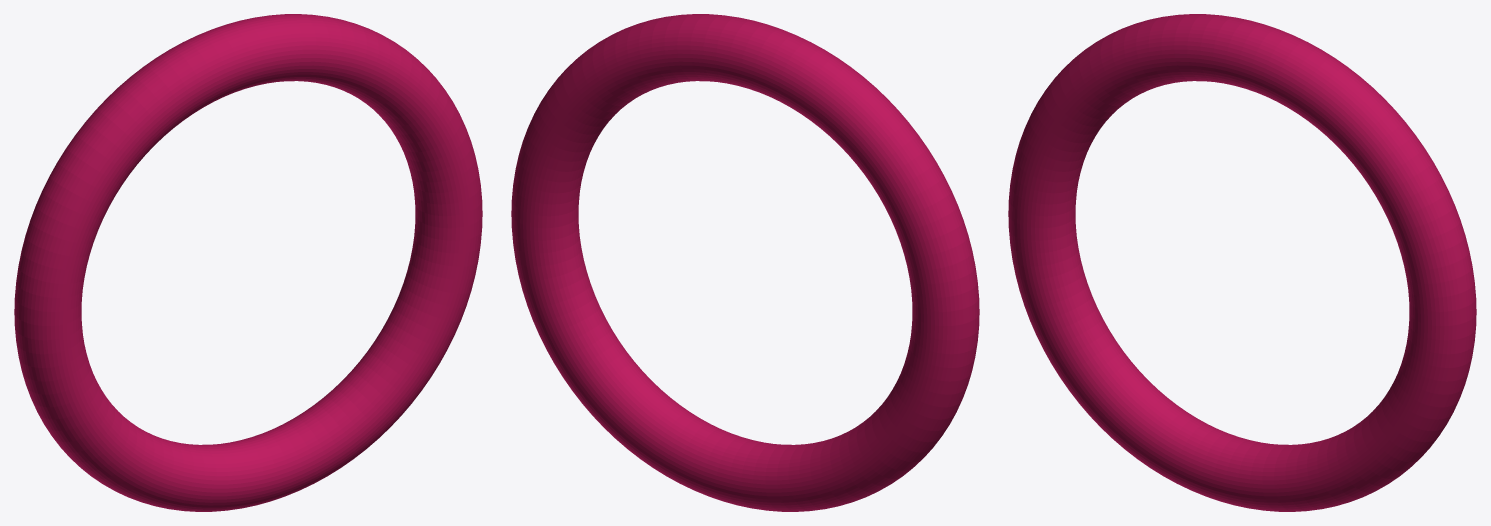
3 views of the same model, side by side, from view 1: azimuth 30°, elevation 25°; view 2: azimuth 150°, elevation 25°; view 3: azimuth 330°, elevation 25° (orthographic).
Visible parts, largest first — view 1: world; view 2: world; view 3: world.
Part boxes in pixels (x1,y1,x2,y2): world: (14, 14, 482, 511); world: (511, 14, 979, 511); world: (1008, 14, 1476, 511).
Size of the model in its own units: 30.53 by 30.53 by 3.86.
